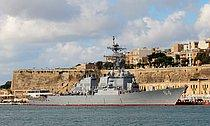MIL_Ship: (27, 44, 188, 108)
